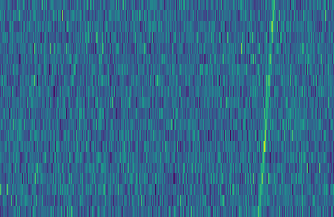signal: (256, 0, 281, 217)
